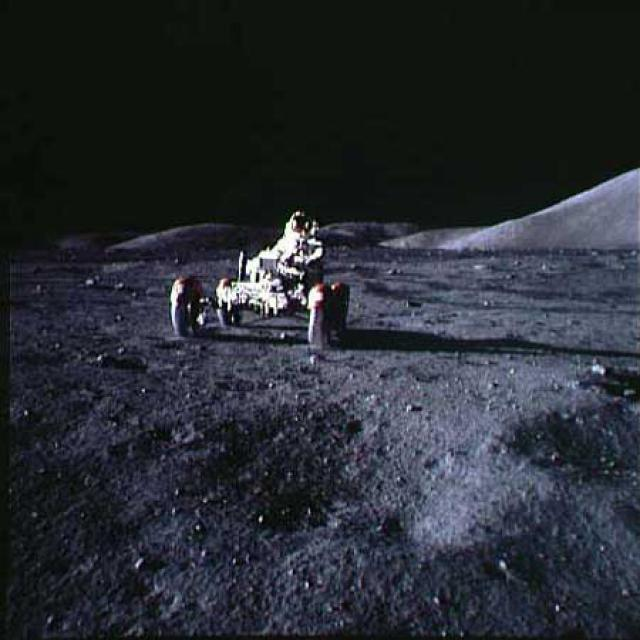artifact: (163, 210, 369, 345)
crater: (156, 401, 472, 537), (509, 410, 634, 474), (21, 340, 153, 374), (576, 364, 639, 398)
